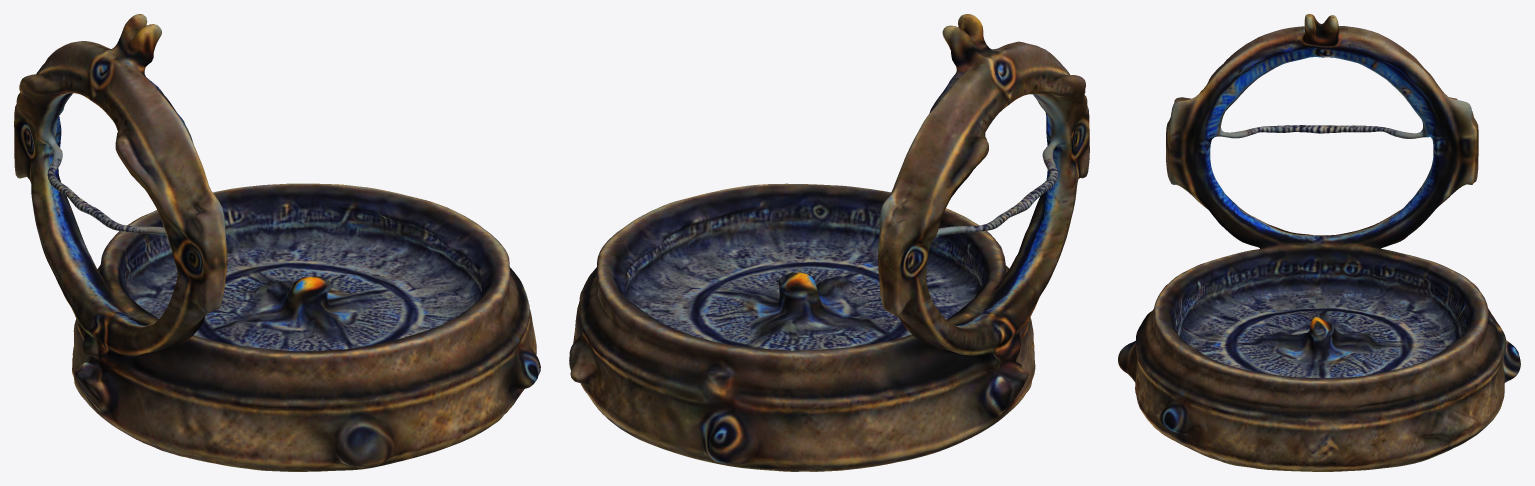
Rendered from compass.glb.
3 renders of one model, left to right at view 1: azimuth 30°, elevation 25°; view 2: azimuth 150°, elevation 25°; view 3: azimuth 270°, elevation 25°, orthographic. The views are drawn at different scales.
Visible parts, largest first — view 1: high_poly; view 2: high_poly; view 3: high_poly.
Part boxes in pixels (box(x1,y1,x2,y2)): high_poly: box(14, 14, 540, 471); high_poly: box(569, 14, 1089, 471); high_poly: box(1118, 14, 1520, 471).
Bounding box in the file's own units: 1 × 0.8923 × 0.9983.
Materials: 1 (1 with a texture image).
